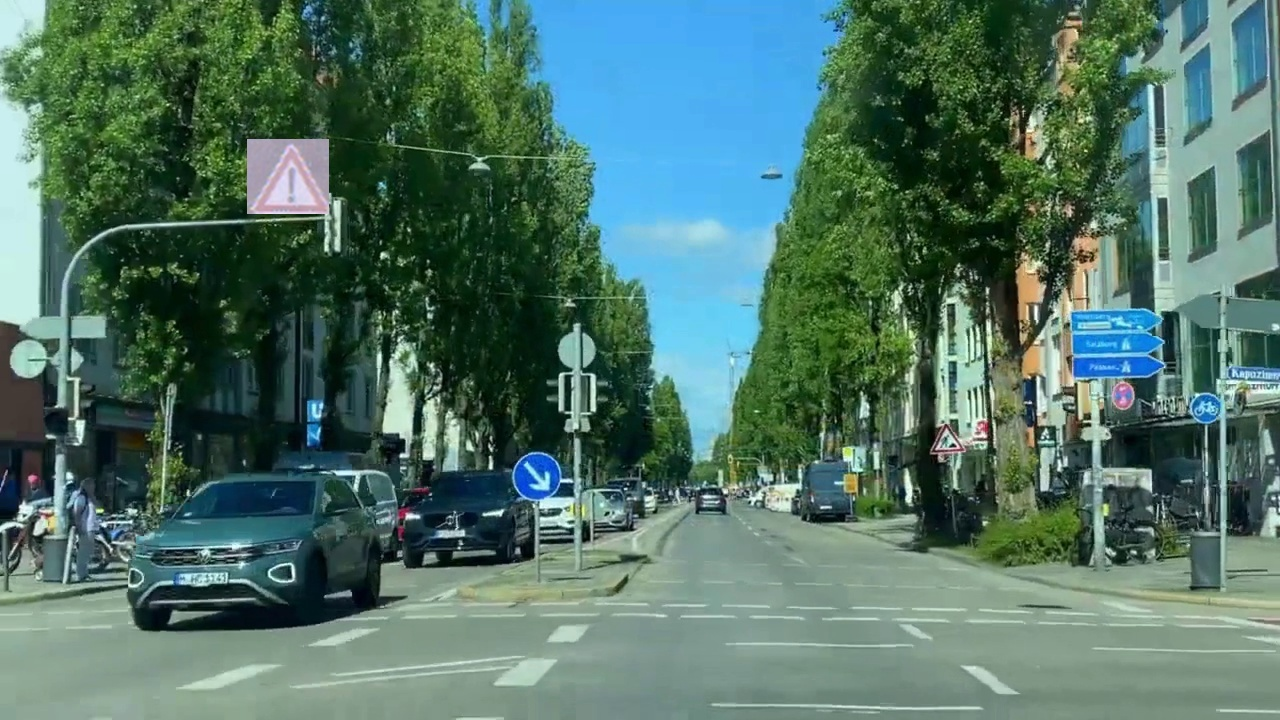Caution: (247, 139, 329, 214)
